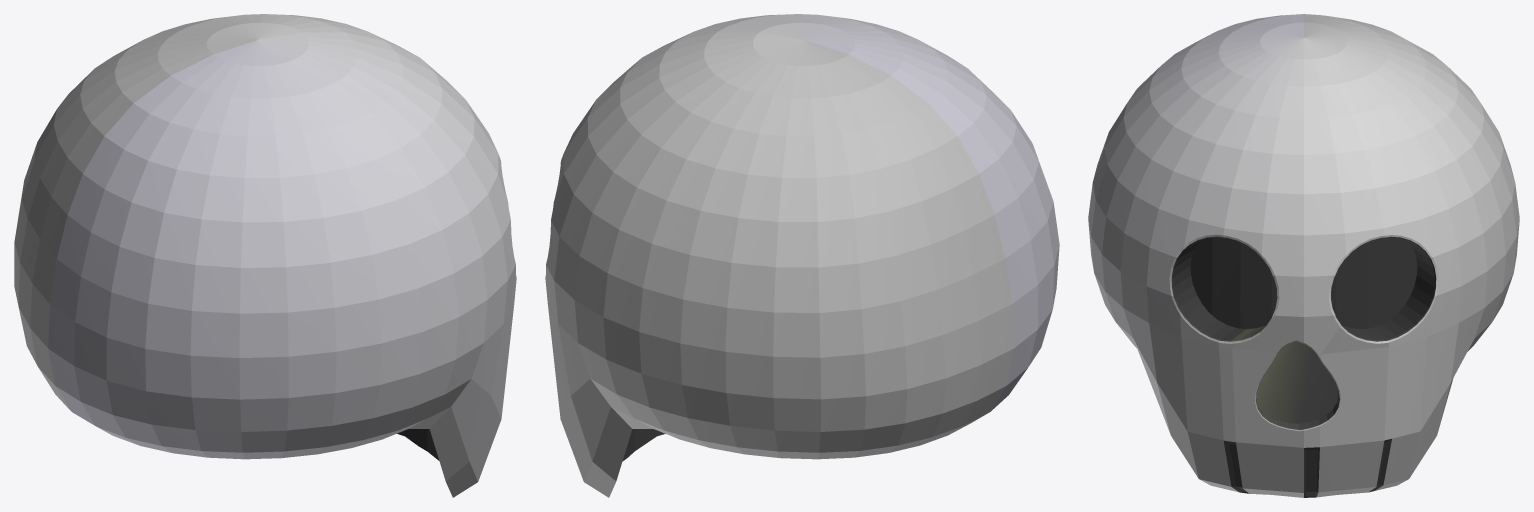
File: t2 scull.fbx
The picture shows the model from 3 angles, left to right: view 1: azimuth 30°, elevation 25°; view 2: azimuth 150°, elevation 25°; view 3: azimuth 270°, elevation 25°; orthographic projection. The views are drawn at different scales.
Parts seen in each view (by area): view 1: FrMaz Skull.001; view 2: FrMaz Skull.001; view 3: FrMaz Skull.001.
Part boxes in pixels (x1,y1,x2,y2): FrMaz Skull.001: (14, 14, 516, 497); FrMaz Skull.001: (545, 14, 1059, 497); FrMaz Skull.001: (1088, 14, 1519, 497).
Bounding box in the file's own units: 3060 × 3013 × 3030.
